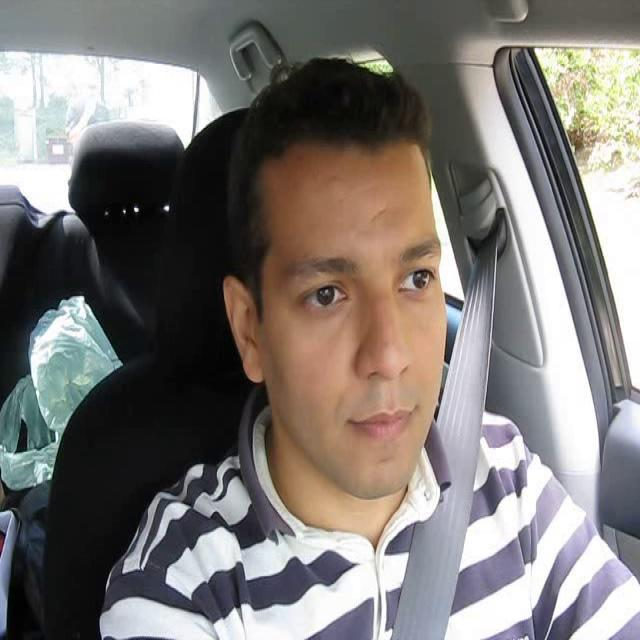close: (345, 407, 422, 443)
